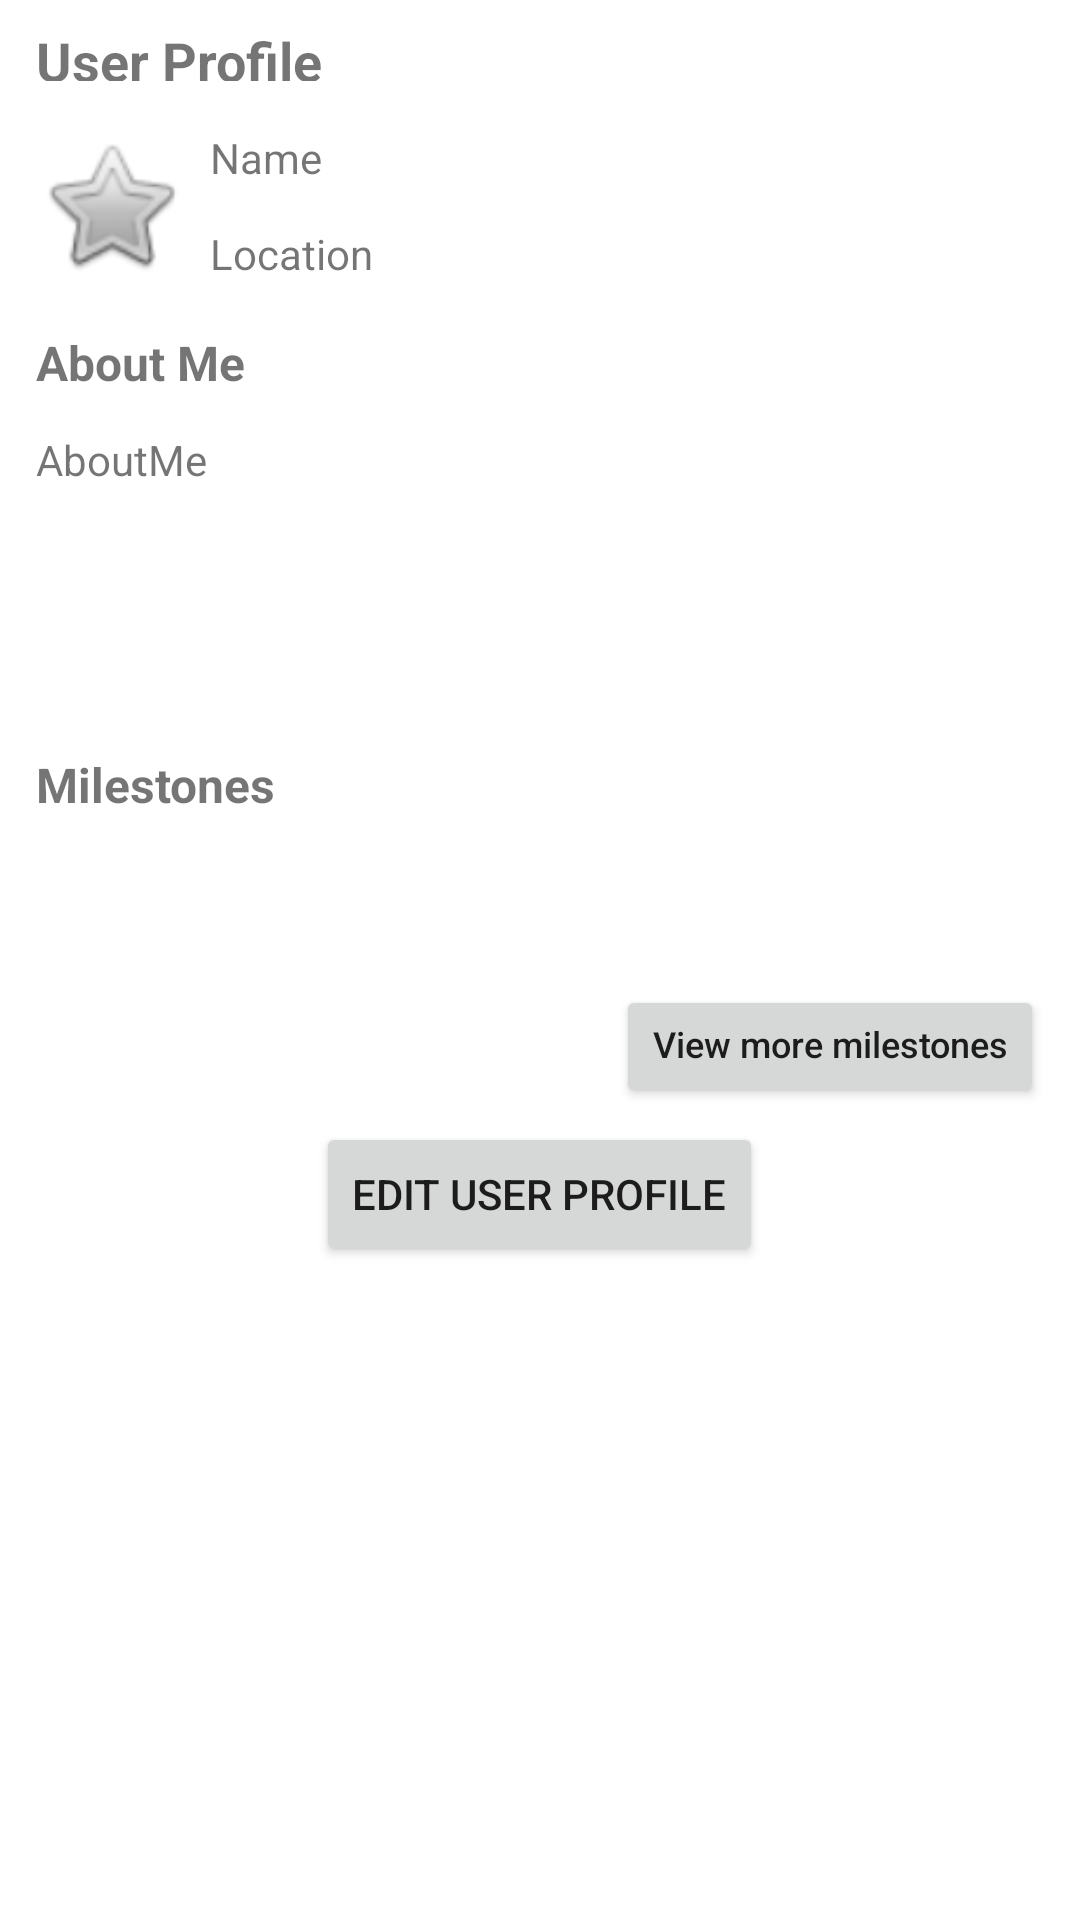

Point at icon controls on the screen. Image size 1080 x 1920, points as (x,y).
star: (112,207)
